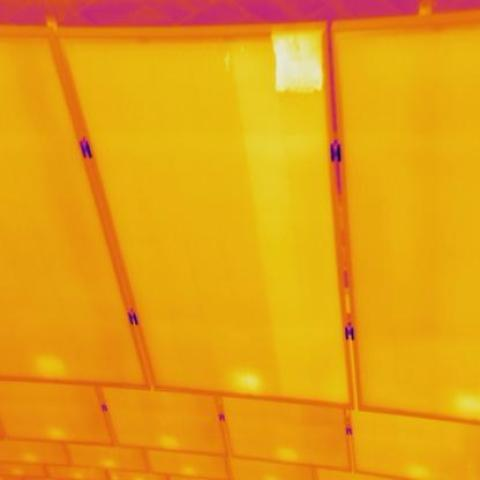fault: (273, 29, 322, 92)
